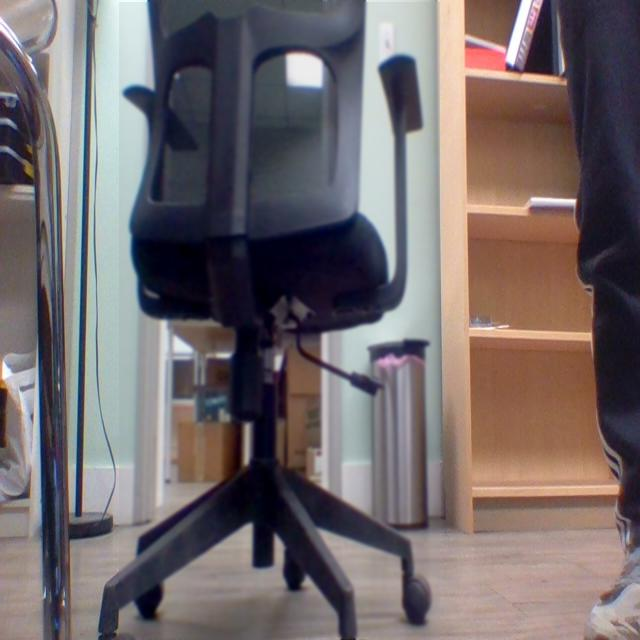black-chair: (119, 2, 441, 639)
